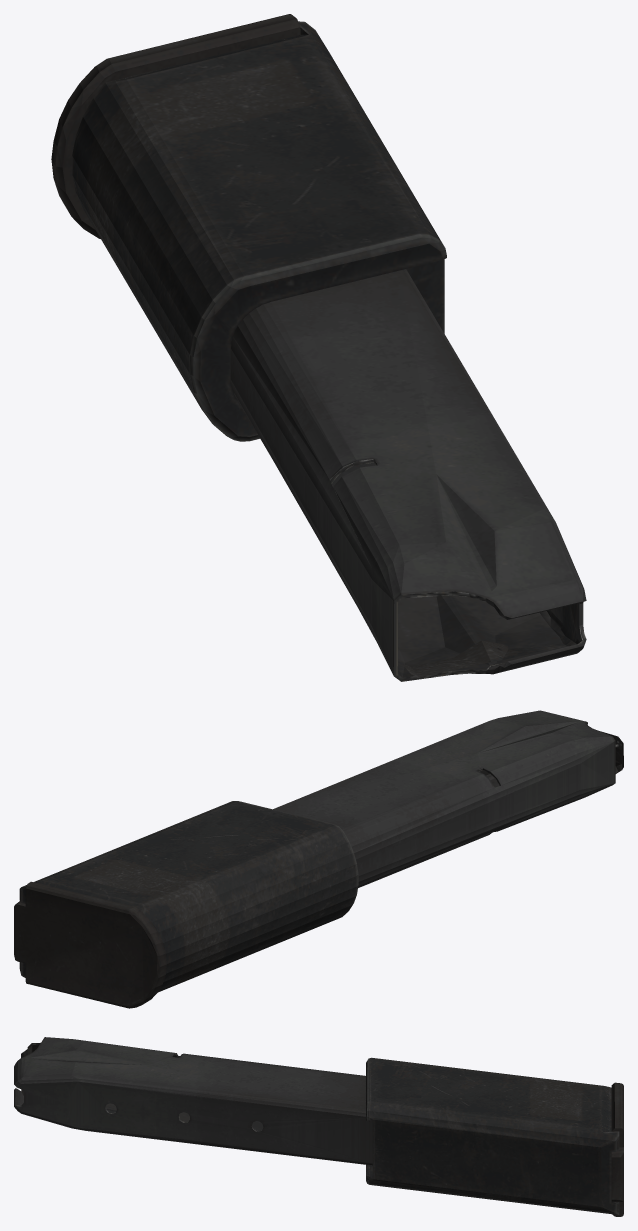
Rendered from Mag9ExtLg_Ground.fbx.
3 views of the same model, one above another, from view 1: azimuth 30°, elevation 25°; view 2: azimuth 150°, elevation 25°; view 3: azimuth 270°, elevation 25° (orthographic). The views are drawn at different scales.
Parts seen in each view (by area): view 1: Mag9ExtLg; view 2: Mag9ExtLg; view 3: Mag9ExtLg.
Boxes of the visible parts, x1,y1,x2,y2 form: Mag9ExtLg: [51, 14, 586, 681]; Mag9ExtLg: [14, 710, 623, 1008]; Mag9ExtLg: [14, 1037, 623, 1216].
Size of the model in its own units: 0.0802 by 0.0273 by 0.1703.
